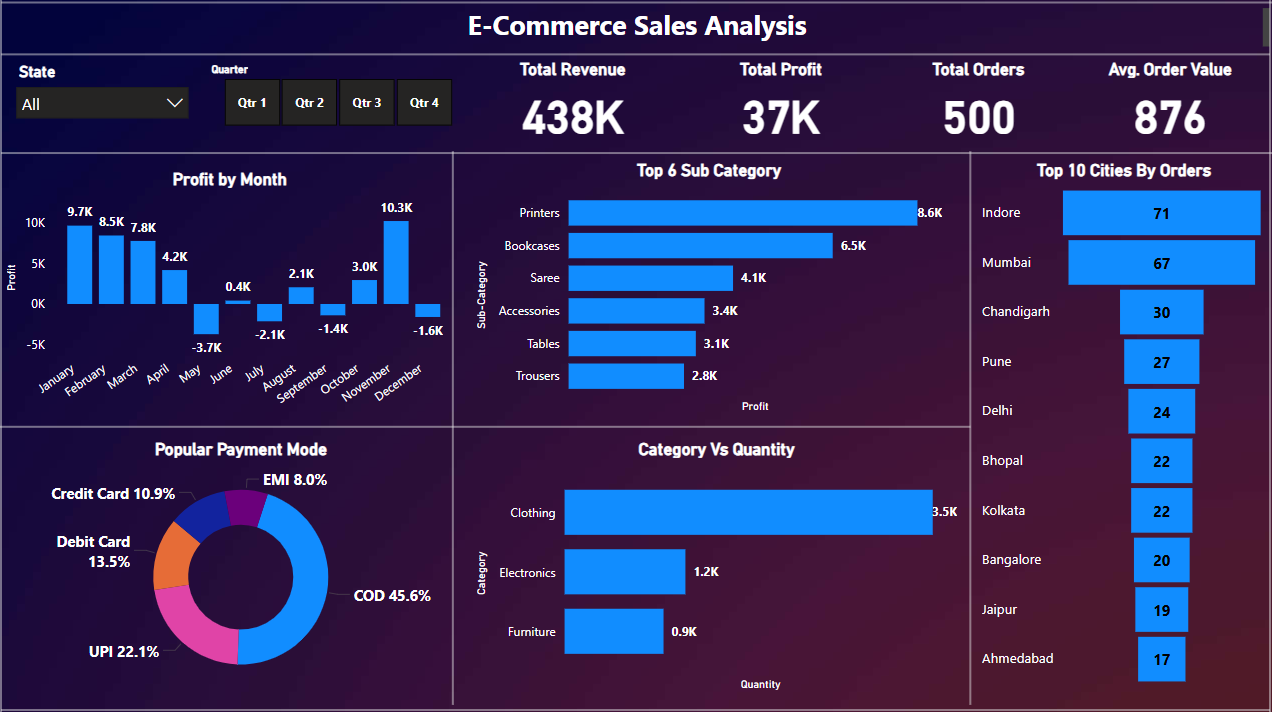

The dashboard page shown, as its layout file describes it:
{"tool":"powerbi","page":{"name":"Page 1","canvas":[1280,720],"ordinal":0},"visuals":[{"type":"textbox","box":[10,7.5,1270,55],"z":0},{"type":"card","title":"Total Revenue","fields":{"Values":["Details (2).Amount"]},"box":[471.8,63.3,211.2,93.8],"z":1000},{"type":"card","title":"Total Orders","fields":{"Values":["Orders (2).Order ID"]},"box":[886,63.5,192.5,93.8],"z":2000},{"type":"card","title":"Total Profit","fields":{"Values":["Details (2).Profit"]},"box":[683.5,63.5,202.5,93.8],"z":3000},{"type":"columnChart","title":" Profit by Month ","fields":{"Y":["Details (2).Profit"],"Category":["Orders (2).Order Date.Variation.Date Hierarchy.Month"]},"box":[5,173.8,457.5,257.5],"z":4000},{"type":"barChart","title":"Top 6 Sub Category ","fields":{"Category":["Details (2).Sub-Category"],"Y":["Details (2).Profit"]},"box":[475,165,476.2,257.5],"z":5000},{"type":"donutChart","title":"Popular Payment Mode","fields":{"Category":["Details (2).PaymentMode"],"Y":["Details (2).Order ID"]},"box":[0,443.8,490,256.2],"z":6000},{"type":"barChart","title":"Category Vs Quantity ","fields":{"Category":["Details (2).Category"],"Y":["Details (2).Quantity"]},"box":[475,443.8,491.2,256.2],"z":7000},{"type":"slicer","fields":{"Values":["Orders (2).State"]},"box":[10,62.5,192.5,75],"z":8000},{"type":"slicer","title":"Quarter","fields":{"Values":["Orders (2).Order Date.Variation.Date Hierarchy.Quarter"]},"box":[202.5,62.5,277.5,75],"z":9000},{"type":"funnel","title":"Top 10 Cities By Orders","fields":{"Category":["Orders (2).City"],"Y":["Orders (2).Order ID"]},"box":[981.2,165,293.8,531.2],"z":10000},{"type":"shape","box":[5,151.2,1275,13.8],"z":11000},{"type":"shape","box":[0,285,975,293.8],"z":12000},{"type":"shape","box":[831.2,156.2,286.2,553.8],"z":13000},{"type":"shape","box":[321.2,156.2,271.2,553.8],"z":14000},{"type":"shape","box":[5,25,1270,68.8],"z":15000},{"type":"card","title":"Avg. Order Value","fields":{"Values":["Measure.Average Order Value"]},"box":[1078.5,63.5,191.2,93.8],"z":16000},{"type":"shape","box":[0,0,10,720],"z":17000},{"type":"shape","box":[5,0,1275,15],"z":18000},{"type":"shape","box":[5,710,1270,10],"z":19000},{"type":"shape","box":[1270,0,10,720],"z":19001}]}

Visuals, with their boxes in screenshot pixels (x1, y1, x2, y2), scaled from the page's 1280x720 canvas onto the 1272x712 screenshot:
textbox: 10, 7, 1271, 62
"Total Revenue" card: 469, 63, 679, 155
"Total Orders" card: 880, 63, 1072, 156
"Total Profit" card: 679, 63, 880, 156
" Profit by Month " columnChart: 5, 172, 460, 427
"Top 6 Sub Category " barChart: 472, 163, 945, 418
"Popular Payment Mode" donutChart: 0, 439, 487, 692
"Category Vs Quantity " barChart: 472, 439, 960, 692
slicer - Orders (2).State: 10, 62, 201, 136
"Quarter" slicer: 201, 62, 477, 136
"Top 10 Cities By Orders" funnel: 975, 163, 1267, 688
shape: 5, 150, 1271, 163
shape: 0, 282, 969, 572
shape: 826, 154, 1110, 702
shape: 319, 154, 589, 702
shape: 5, 25, 1267, 93
"Avg. Order Value" card: 1072, 63, 1262, 156
shape: 0, 0, 10, 711
shape: 5, 0, 1271, 15
shape: 5, 702, 1267, 711
shape: 1262, 0, 1271, 711
